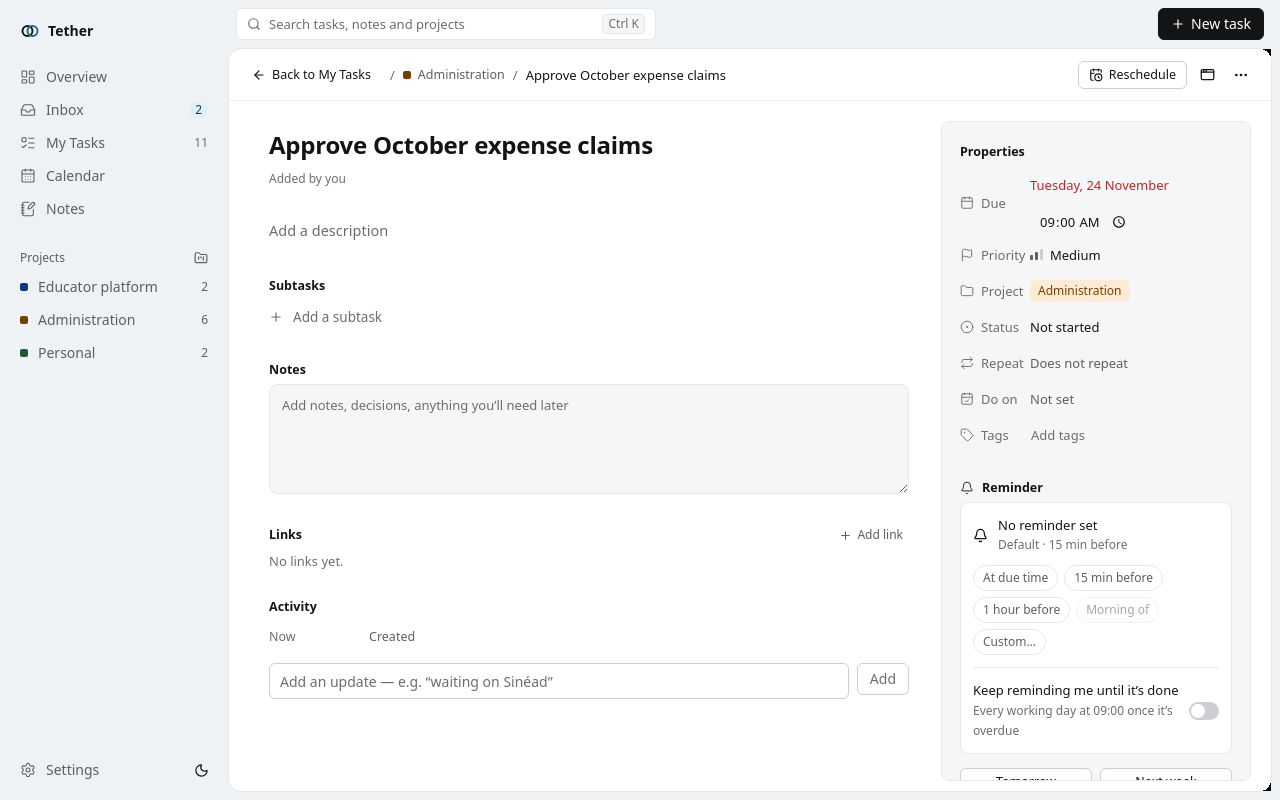
Test: Full task page › adds an update and shows it in Activity
This screenshot has width=1280, height=800.
Step 1. Type "Waiting on Sinead" into the field labelled "Add an update" → [559, 681], box x1=269 y1=663 x2=849 y2=699
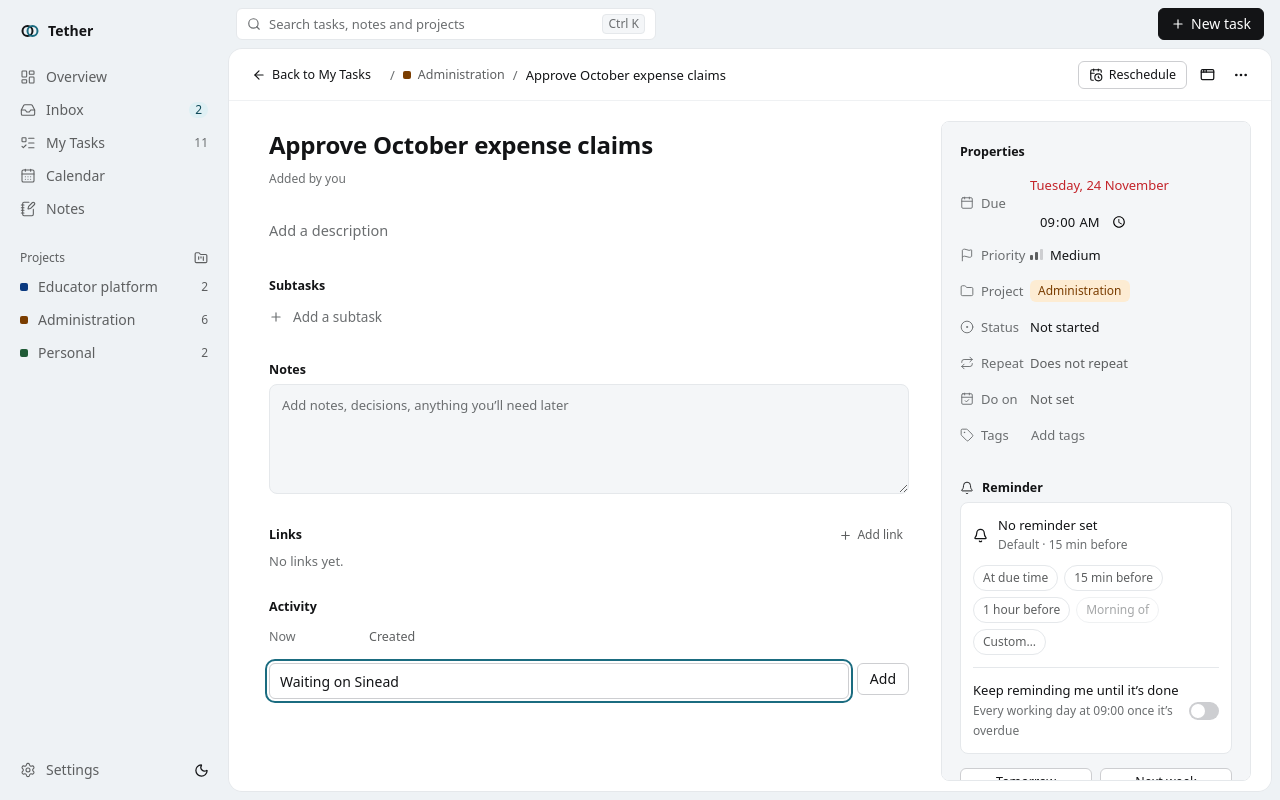
Step 2. Click the button "Add" → [883, 679], box x1=857 y1=663 x2=909 y2=695
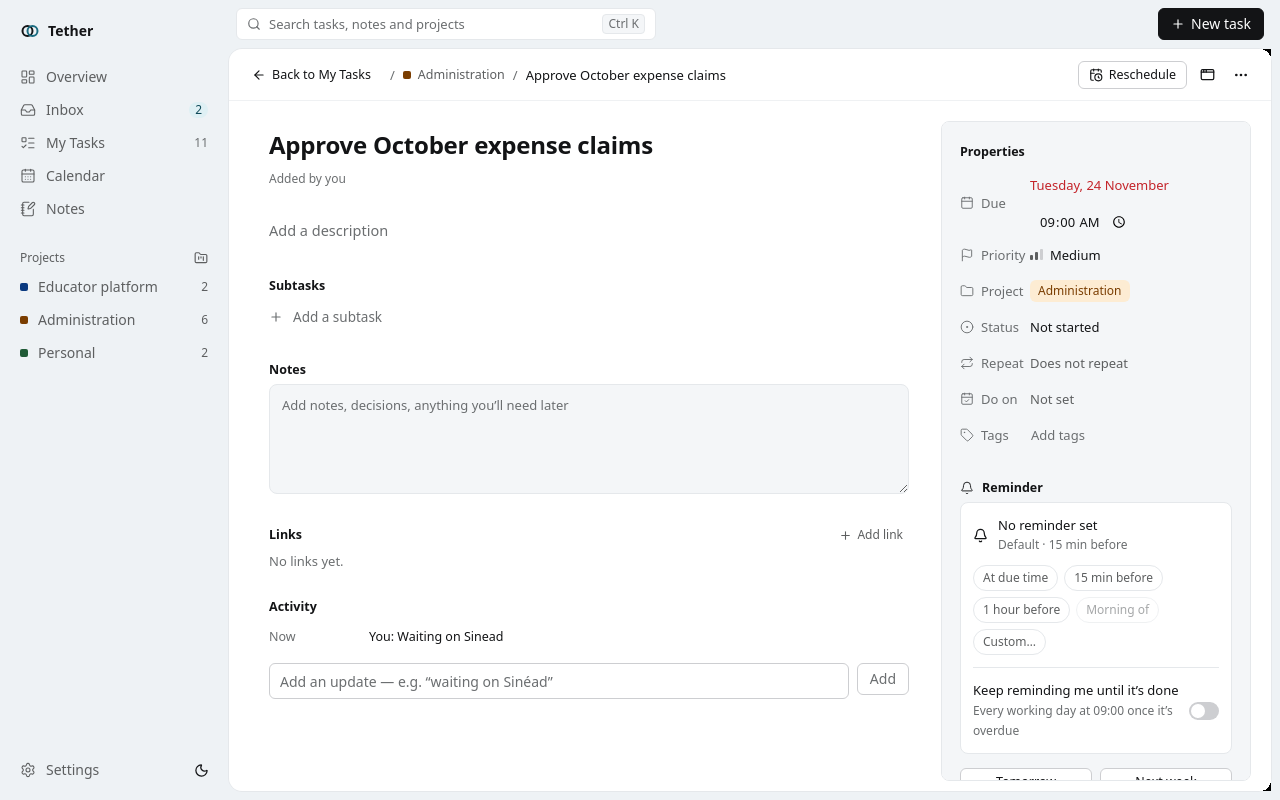
Expected: the text "You: Waiting on Sinead" is shown, x1=369 y1=628 x2=504 y2=645
Expected: the field labelled "Add an update" is empty, x1=269 y1=663 x2=849 y2=699
